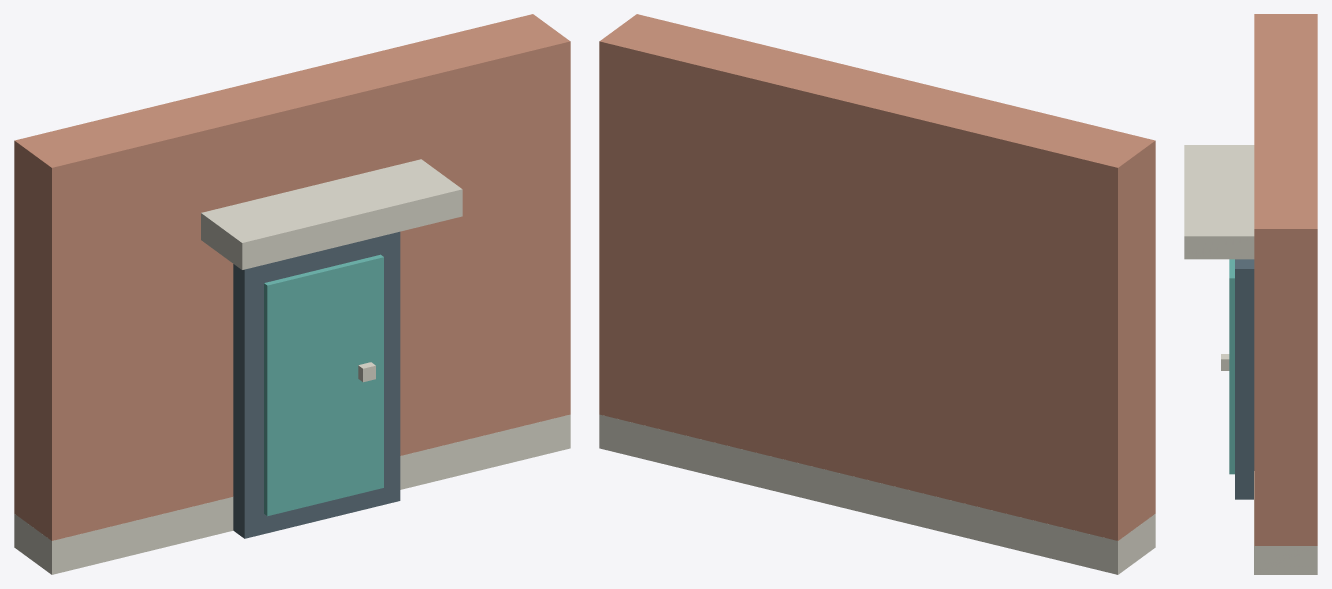
Rendered from voxel-city-districts-recessed-door-bay-3d500d2e__24800.glb.
The picture shows the model from 3 angles, left to right: view 1: azimuth 30°, elevation 25°; view 2: azimuth 150°, elevation 25°; view 3: azimuth 270°, elevation 25°; orthographic projection. The views are drawn at different scales.
Visible parts, largest first — view 1: recessed-door-bay-brick, recessed-door-bay-concrete, recessed-door-bay-accent, recessed-door-bay-dark; view 2: recessed-door-bay-brick, recessed-door-bay-concrete; view 3: recessed-door-bay-brick, recessed-door-bay-concrete, recessed-door-bay-dark, recessed-door-bay-accent.
Part boxes in pixels (<box>): recessed-door-bay-brick: <box>14,14,570,540</box>; recessed-door-bay-concrete: <box>14,159,570,574</box>; recessed-door-bay-accent: <box>264,254,383,516</box>; recessed-door-bay-dark: <box>233,231,400,538</box>; recessed-door-bay-brick: <box>599,14,1155,540</box>; recessed-door-bay-concrete: <box>599,414,1155,574</box>; recessed-door-bay-brick: <box>1254,14,1317,545</box>; recessed-door-bay-concrete: <box>1184,145,1317,574</box>; recessed-door-bay-dark: <box>1235,259,1254,499</box>; recessed-door-bay-accent: <box>1229,259,1234,474</box>.
Size of the model in its own units: 4 by 3 by 1.05.
